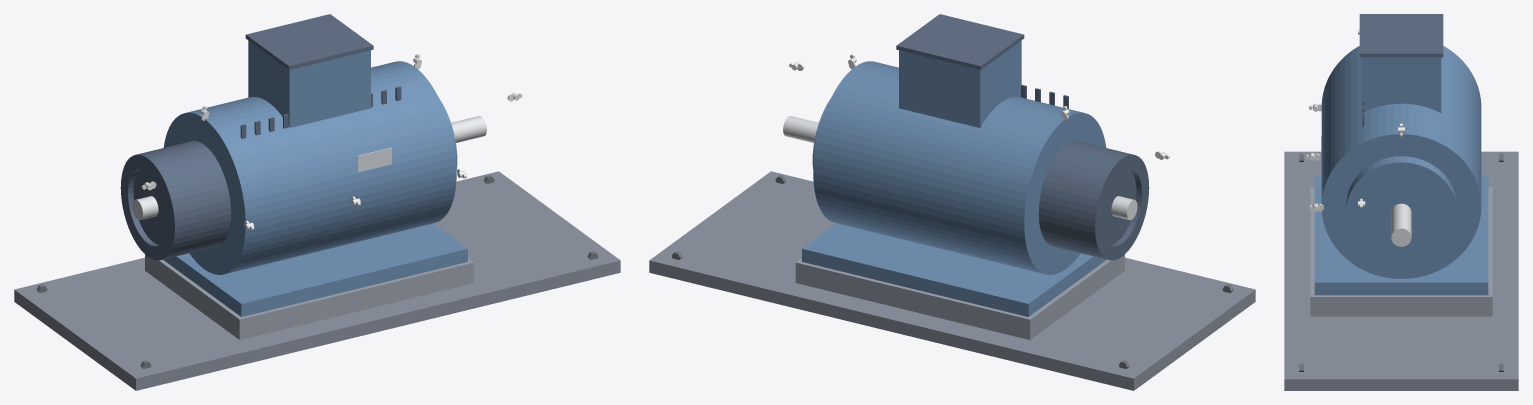
File: generator.glb
The picture shows the model from 3 angles, left to right: view 1: azimuth 30°, elevation 25°; view 2: azimuth 150°, elevation 25°; view 3: azimuth 270°, elevation 25°; orthographic projection. The views are drawn at different scales.
Visible parts, largest first — view 1: PART_001, CASING_GENCASE_006, CASING_GENFOOT_007, PART_028, CASING_EXCITER_010, CASING_TERMBOX_008, PART_009, CASING_EXCITER_011, PART_027, PART_025; view 2: PART_001, CASING_GENCASE_006, CASING_GENFOOT_007, PART_028, CASING_EXCITER_010, CASING_TERMBOX_008, PART_009, CASING_EXCITER_011, PART_027; view 3: PART_001, CASING_GENCASE_006, CASING_ENDBELL_012, CASING_GENFOOT_007, PART_028, CASING_TERMBOX_008, PART_009, PART_027.
Boxes of the visible parts, left/top/right/bottom form: PART_001: left=14, top=171, right=620, bottom=390; CASING_GENCASE_006: left=163, top=61, right=456, bottom=274; CASING_GENFOOT_007: left=163, top=223, right=467, bottom=316; PART_028: left=145, top=254, right=474, bottom=339; CASING_EXCITER_010: left=133, top=141, right=231, bottom=257; CASING_TERMBOX_008: left=248, top=40, right=370, bottom=127; PART_009: left=245, top=14, right=373, bottom=69; CASING_EXCITER_011: left=120, top=152, right=182, bottom=260; PART_027: left=132, top=116, right=486, bottom=220; PART_025: left=357, top=147, right=391, bottom=172; PART_001: left=649, top=171, right=1255, bottom=390; CASING_GENCASE_006: left=813, top=61, right=1106, bottom=274; CASING_GENFOOT_007: left=802, top=223, right=1106, bottom=316; PART_028: left=795, top=254, right=1124, bottom=339; CASING_EXCITER_010: left=1038, top=141, right=1136, bottom=257; CASING_TERMBOX_008: left=899, top=40, right=1021, bottom=127; PART_009: left=896, top=14, right=1024, bottom=69; CASING_EXCITER_011: left=1088, top=152, right=1149, bottom=260; PART_027: left=783, top=116, right=1137, bottom=220; PART_001: left=1284, top=151, right=1518, bottom=390; CASING_GENCASE_006: left=1321, top=46, right=1481, bottom=278; CASING_ENDBELL_012: left=1346, top=156, right=1456, bottom=262; CASING_GENFOOT_007: left=1314, top=176, right=1488, bottom=295; PART_028: left=1310, top=187, right=1492, bottom=316; CASING_TERMBOX_008: left=1361, top=57, right=1441, bottom=112; PART_009: left=1359, top=14, right=1443, bottom=57; PART_027: left=1391, top=203, right=1411, bottom=246.
Size of the model in its own units: 3.1 by 1.52 by 1.35.
